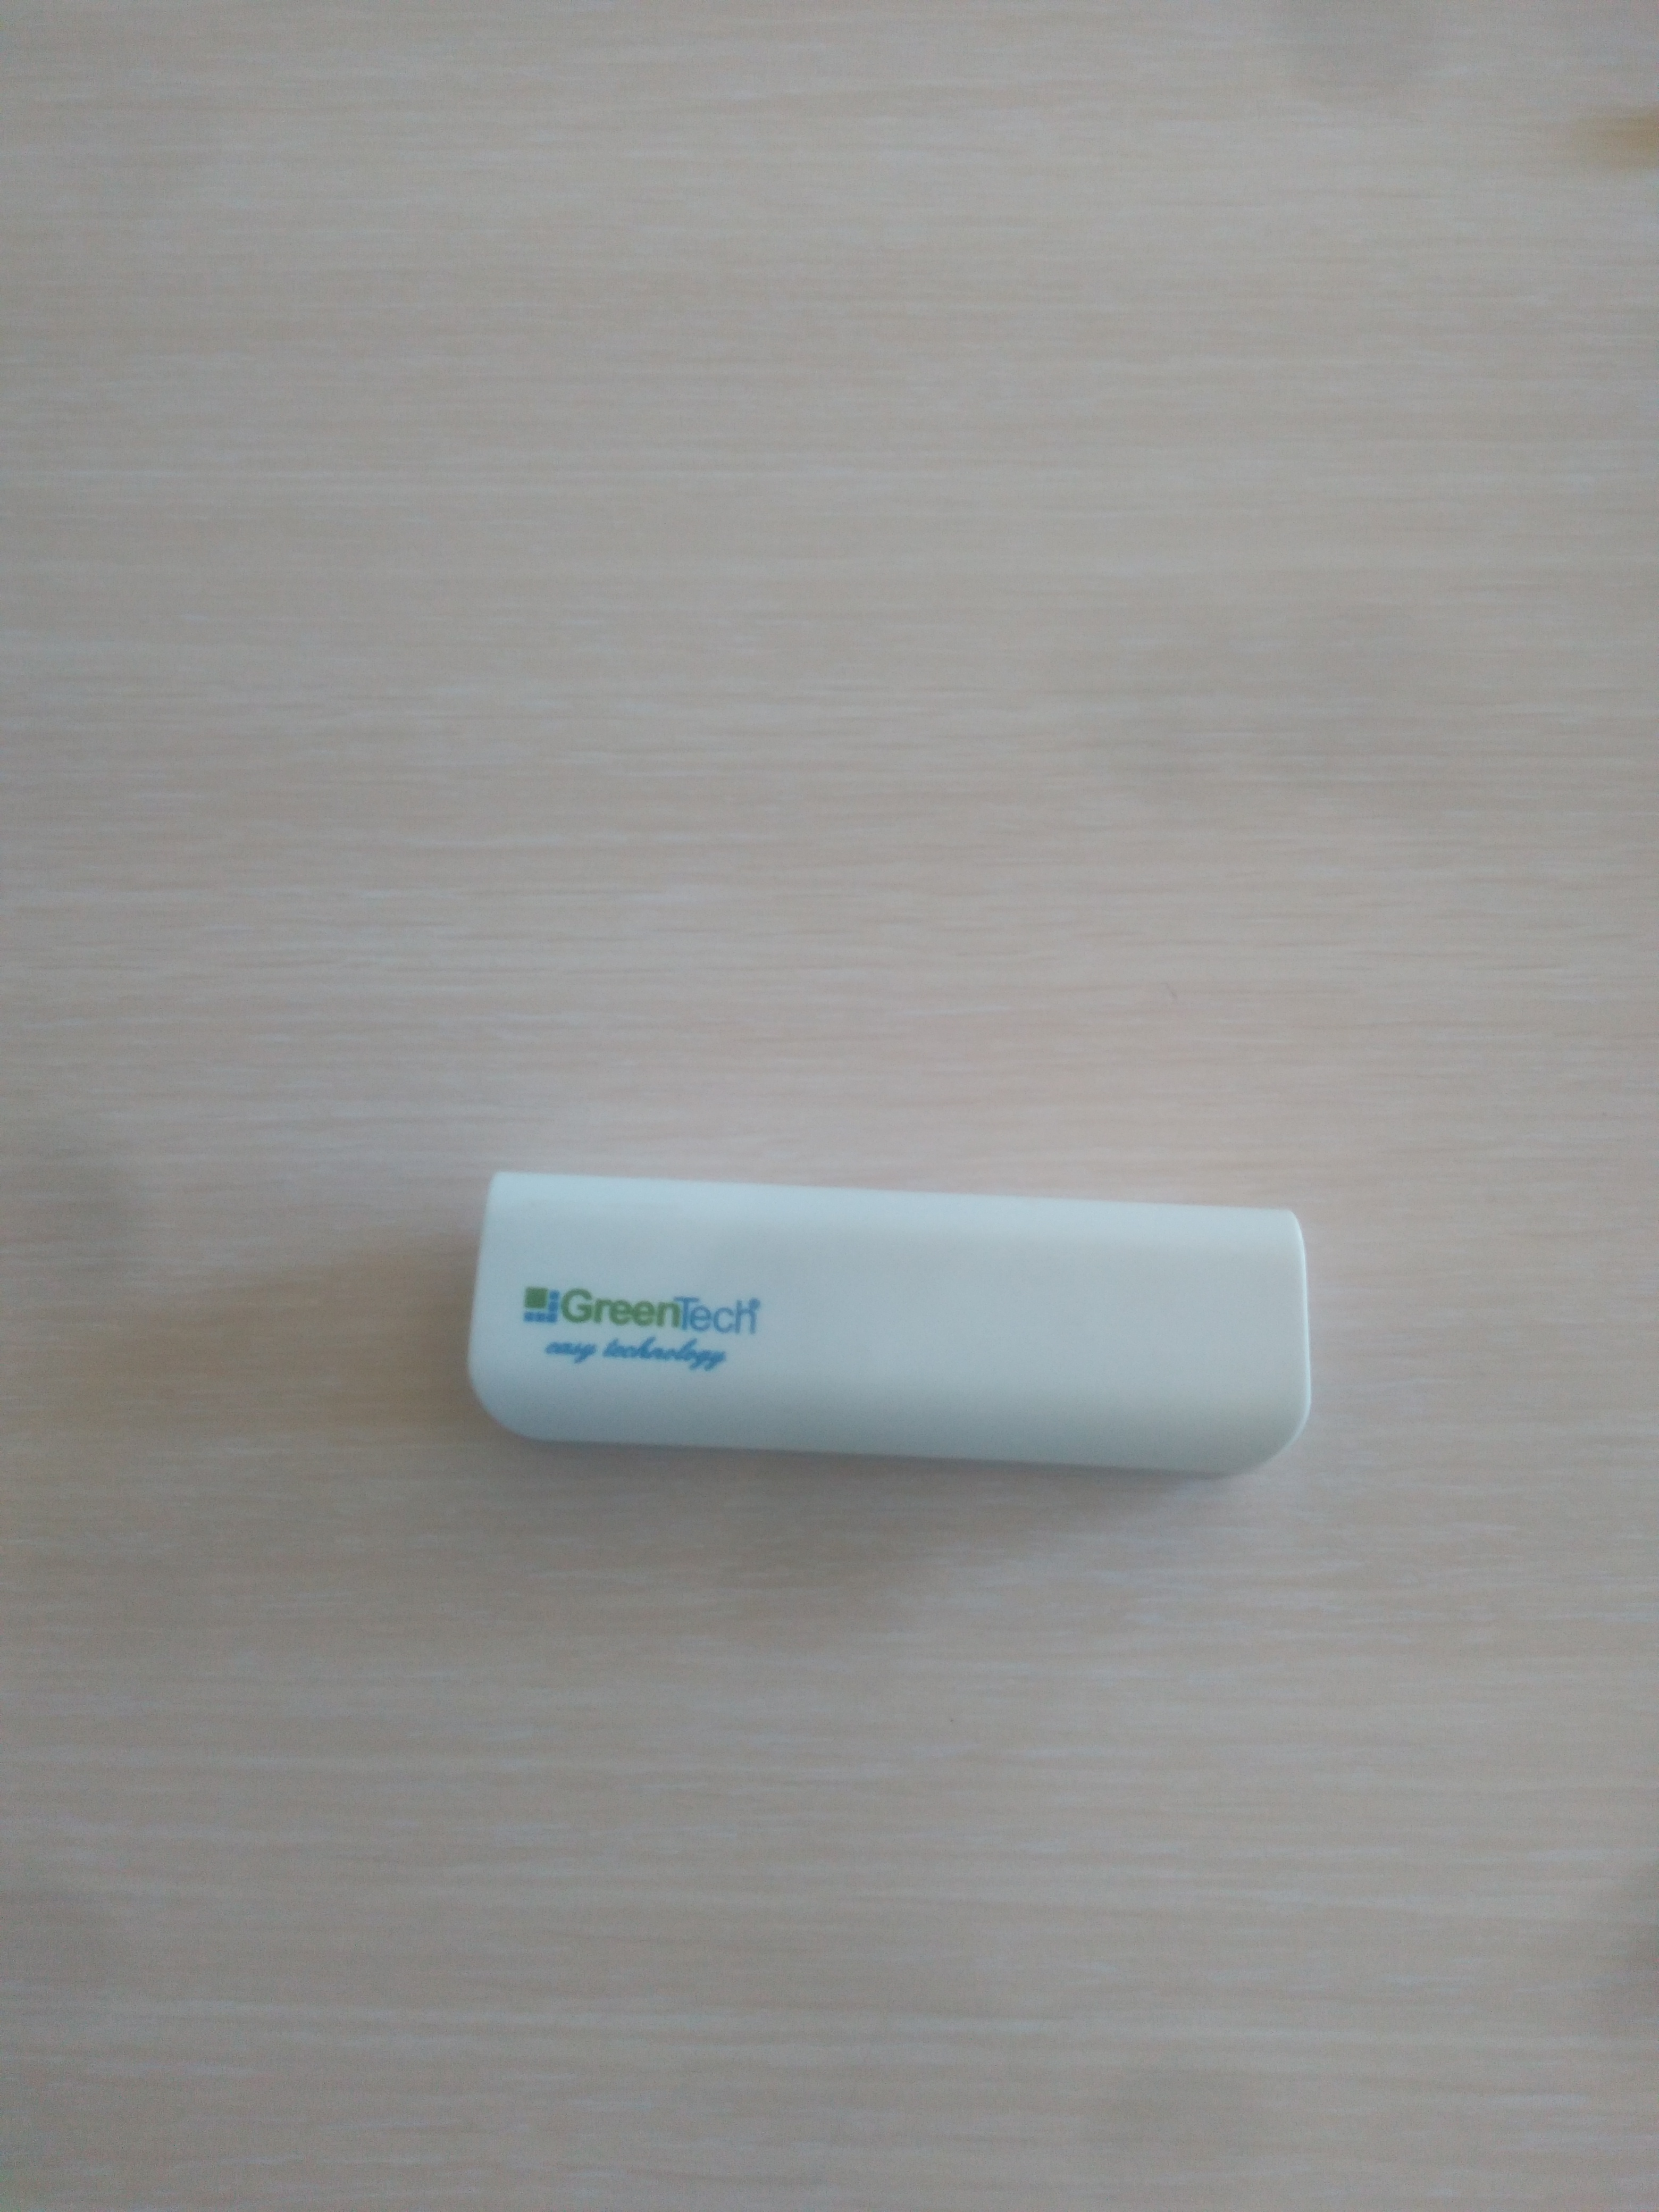powerbank: (455, 1153, 1323, 1494)
